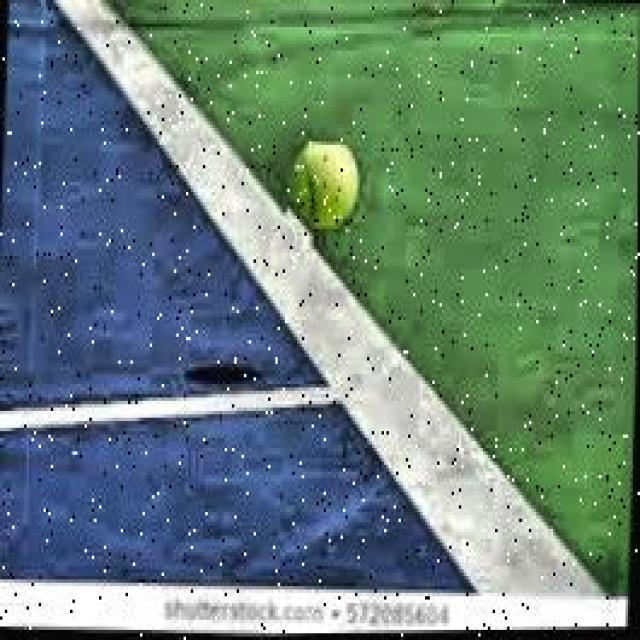tennis-ball: (285, 143, 367, 251)
